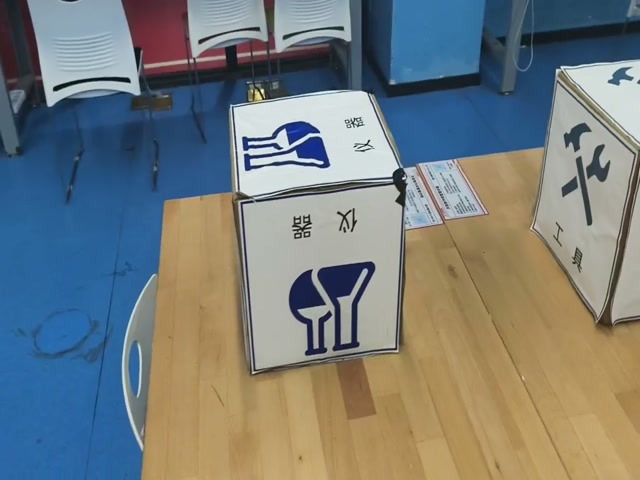Cube_ins: (230, 91, 405, 209)
